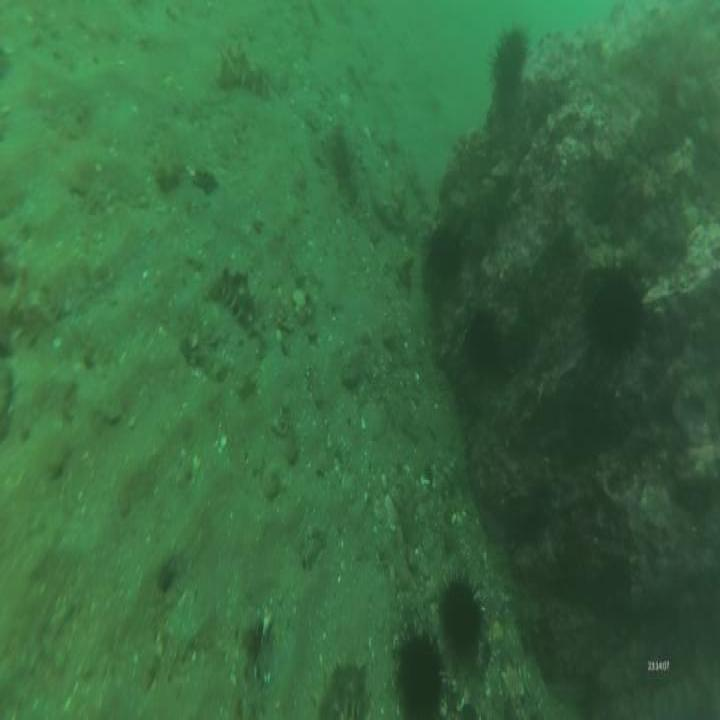echinus: (585, 252, 645, 362), (430, 569, 490, 661), (393, 620, 446, 718), (420, 208, 472, 288), (462, 302, 508, 379), (488, 20, 529, 92)
holothurian: (204, 267, 262, 336), (316, 654, 369, 718), (219, 41, 269, 101), (150, 126, 186, 199)
